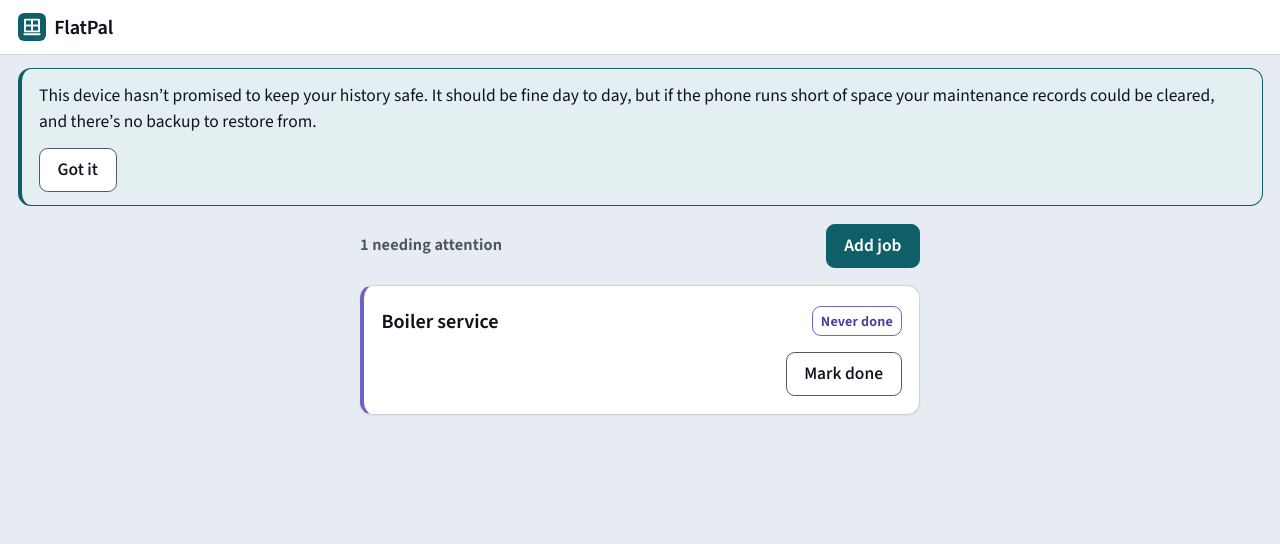
Test: marking a job done › gives a job that has never been done a due date
Expected: the button "Boiler service" is shown, [382,299,499,343]
Click the button "Mark done".
click(844, 374)  # box [786,352,902,396]
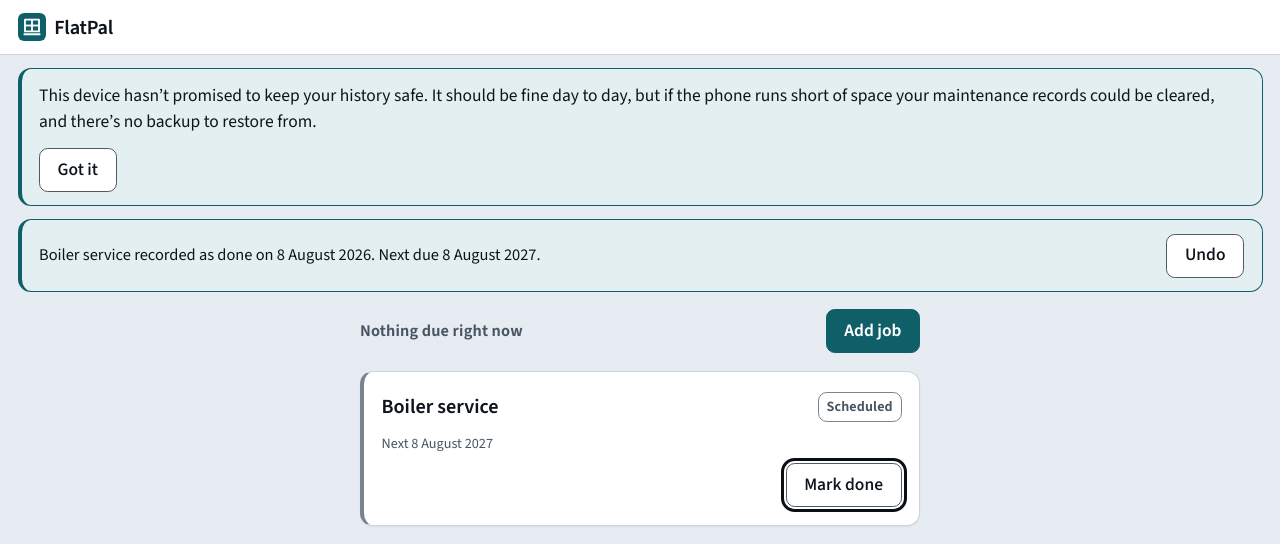
Expected: the list item shows "8 August 2027", [411,433,493,454]
Expected: the text "Never done" is gone
